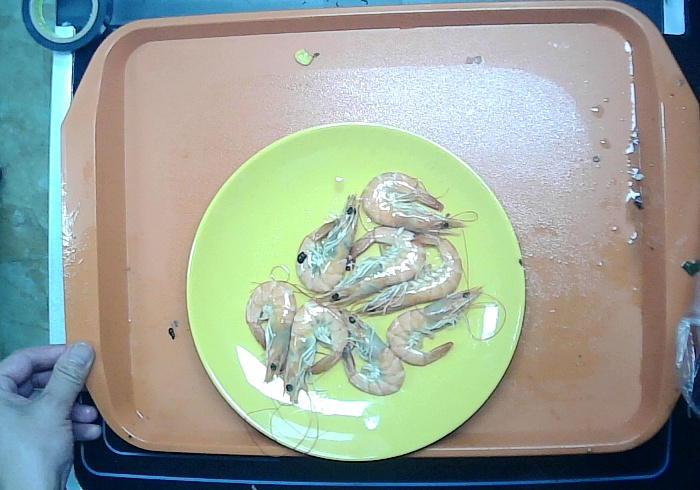HZYJPL-Huang_Se_Yuan_Pan: (181, 111, 533, 466)
